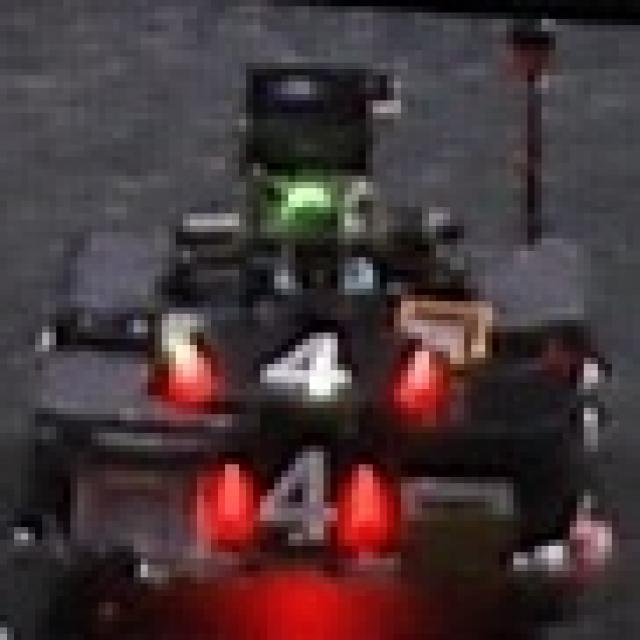R4: (151, 311, 447, 417), (187, 433, 390, 552)
